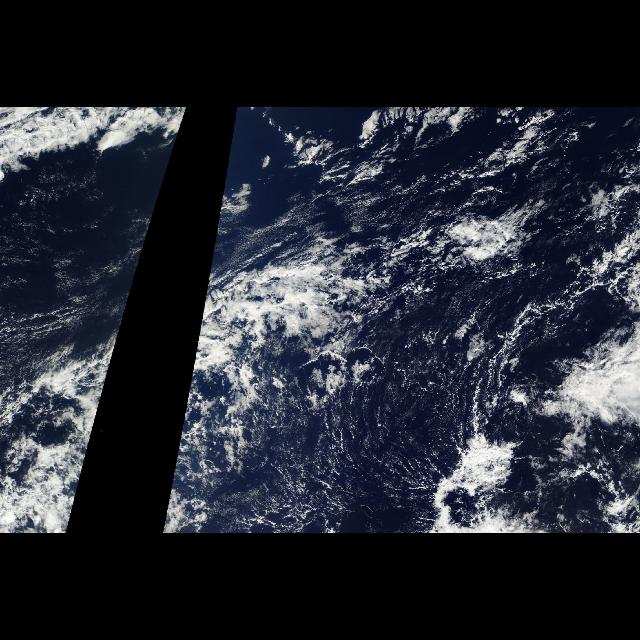Fish: (161, 191, 551, 533), (0, 242, 146, 534)
Gravel: (377, 296, 508, 436)
Sugar: (219, 358, 439, 532), (1, 170, 168, 358), (210, 171, 434, 263)
